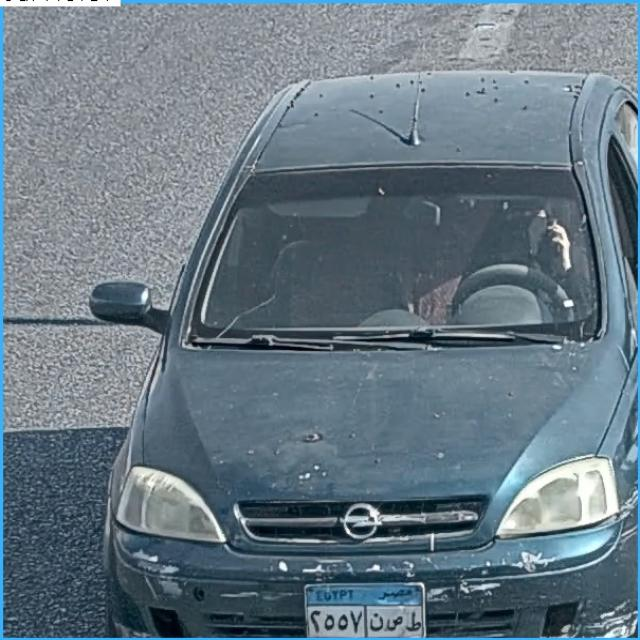windshield: (192, 168, 596, 340)
